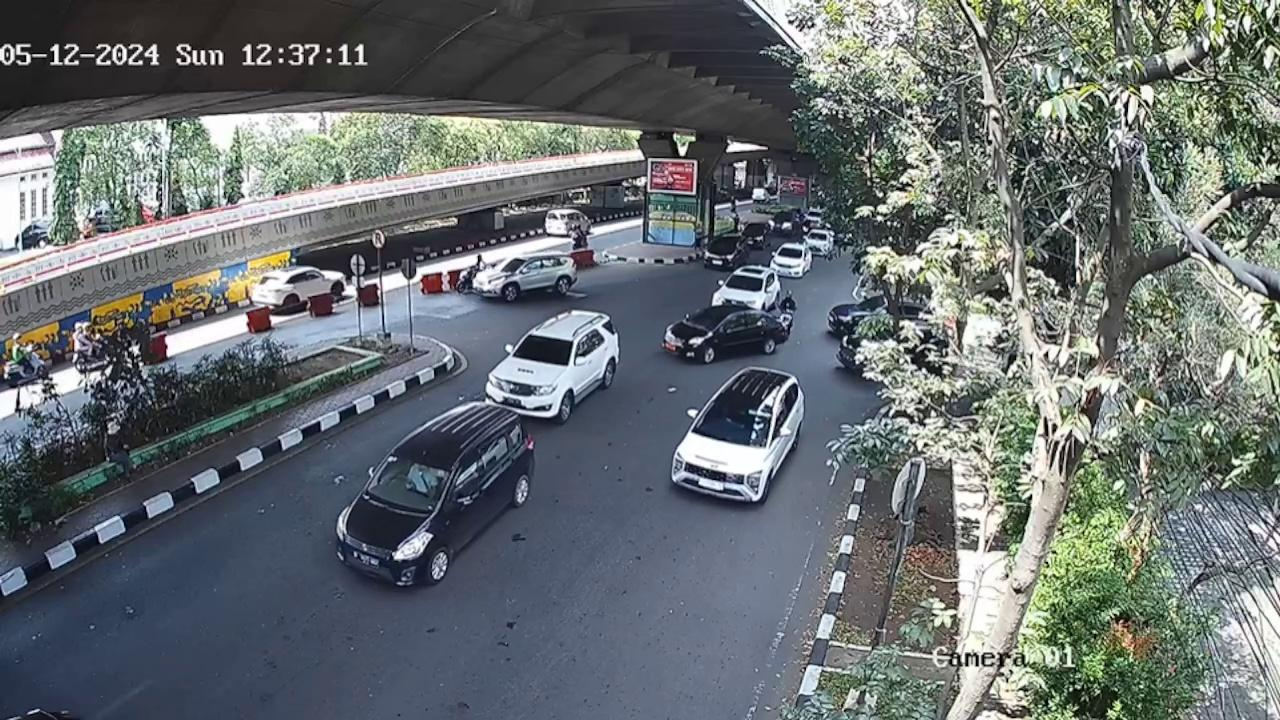pakai: (406, 466, 436, 500)
windshield: (370, 455, 453, 512), (688, 395, 775, 442), (507, 329, 577, 367)
